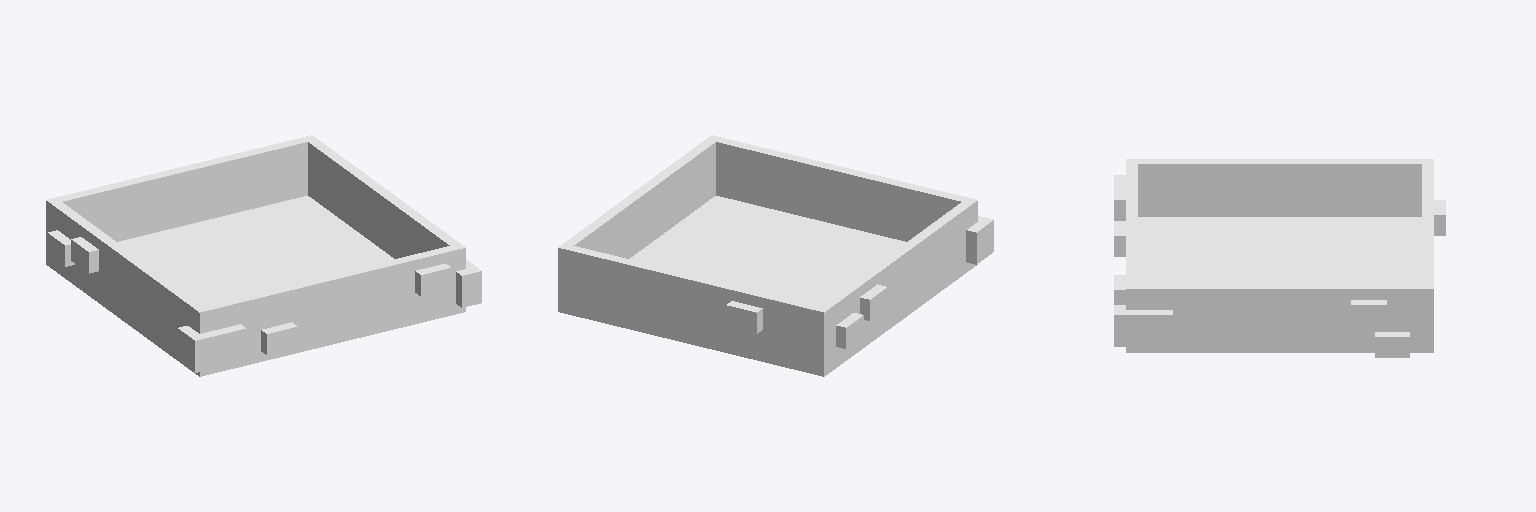
File: TallBuilding02-4.obj
3 renders of one model, left to right at view 1: azimuth 30°, elevation 25°; view 2: azimuth 150°, elevation 25°; view 3: azimuth 270°, elevation 25°, orthographic.
Parts seen in each view (by area): view 1: object 1; view 2: object 1; view 3: object 1.
Boxes of the visible parts, <box> form: object 1: <box>46,135,481,376</box>; object 1: <box>558,135,993,376</box>; object 1: <box>1114,159,1445,357</box>.
Size of the model in its own units: 2.8 by 0.6 by 2.8.